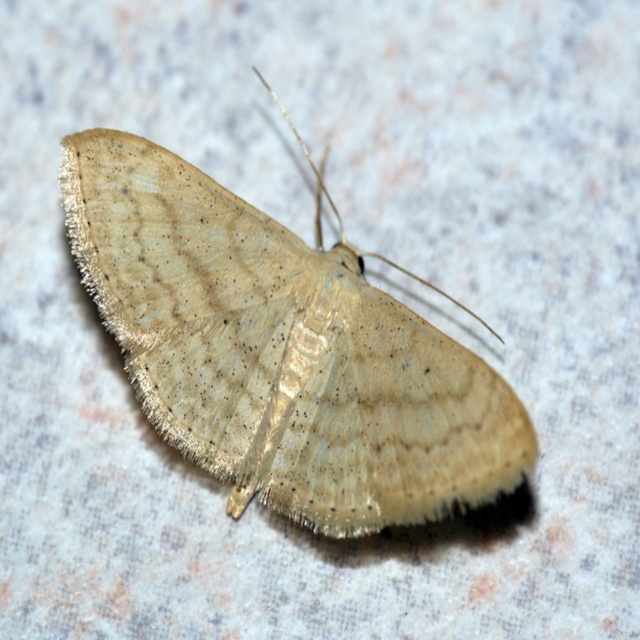Butterfly: (55, 71, 525, 562)
